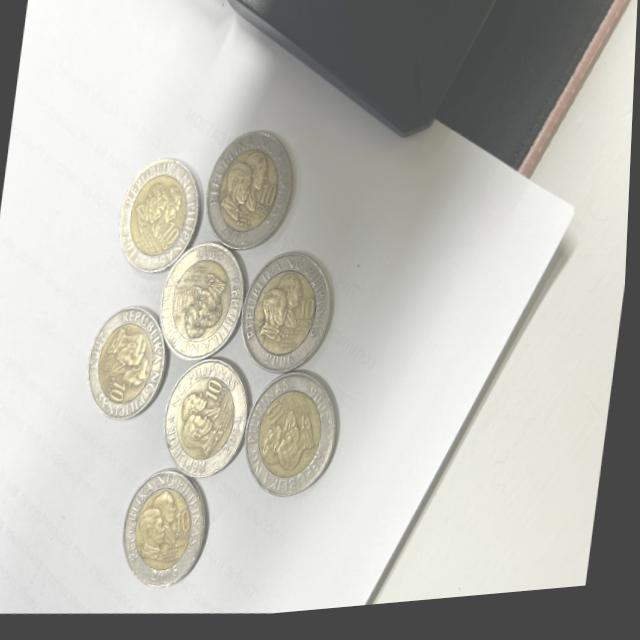10_Old_Front: (266, 404, 289, 434), (300, 299, 319, 328), (259, 186, 278, 212), (207, 380, 226, 406), (175, 513, 194, 539), (163, 223, 181, 247), (110, 384, 129, 406), (172, 295, 189, 319)
